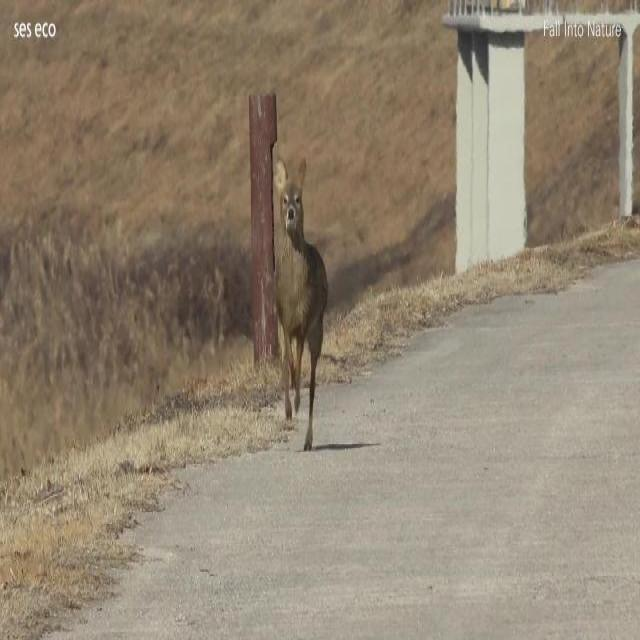deer: (273, 155, 328, 458)
